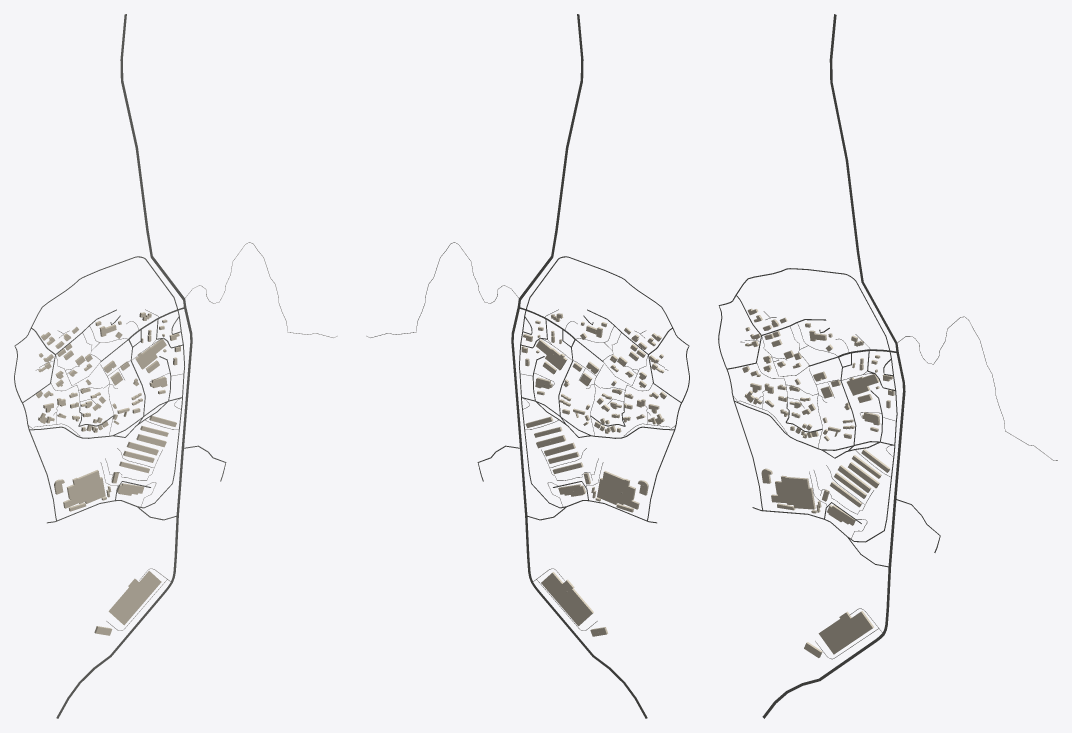
File: historic-palestine-14_37_3555_3312.glb
The picture shows the model from 3 angles, left to right: view 1: azimuth 30°, elevation 25°; view 2: azimuth 150°, elevation 25°; view 3: azimuth 330°, elevation 25°; orthographic projection. The views are drawn at different scales.
Visible parts, largest first — view 1: Road 886, Building_.001, Building_.008, Road .003; view 2: Road 886, Building_.001, Building_.008, Road .003; view 3: Road 886, Building_.001, Building_.008, Road .003.
Part boxes in pixels (x1,y1,x2,y2): Road 886: (56, 14, 192, 718); Building_.001: (108, 571, 161, 625); Building_.008: (63, 470, 105, 508); Road .003: (14, 256, 184, 520); Road 886: (511, 14, 647, 718); Building_.001: (541, 572, 593, 626); Building_.008: (597, 471, 639, 509); Road .003: (519, 256, 689, 520); Road 886: (762, 14, 905, 718); Building_.001: (818, 611, 873, 654); Building_.008: (771, 475, 815, 509); Road .003: (718, 268, 897, 542).
Bounding box in the file's own units: 1060 × 2153 × 8.7.
